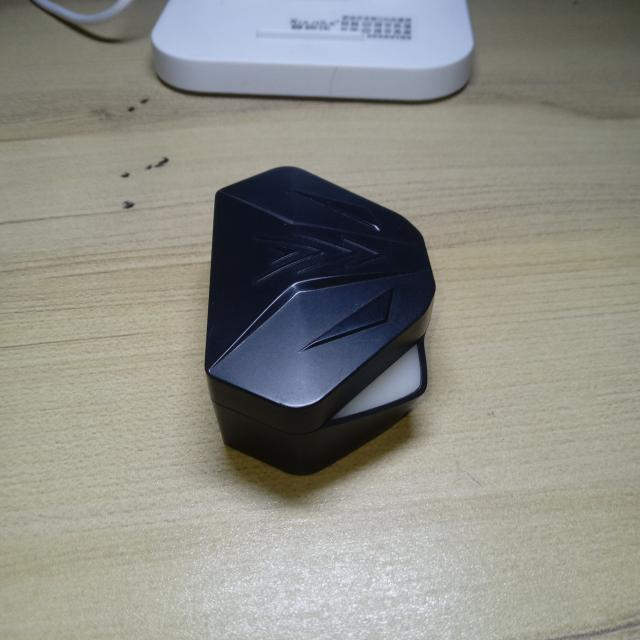earpods: (198, 154, 439, 485)
